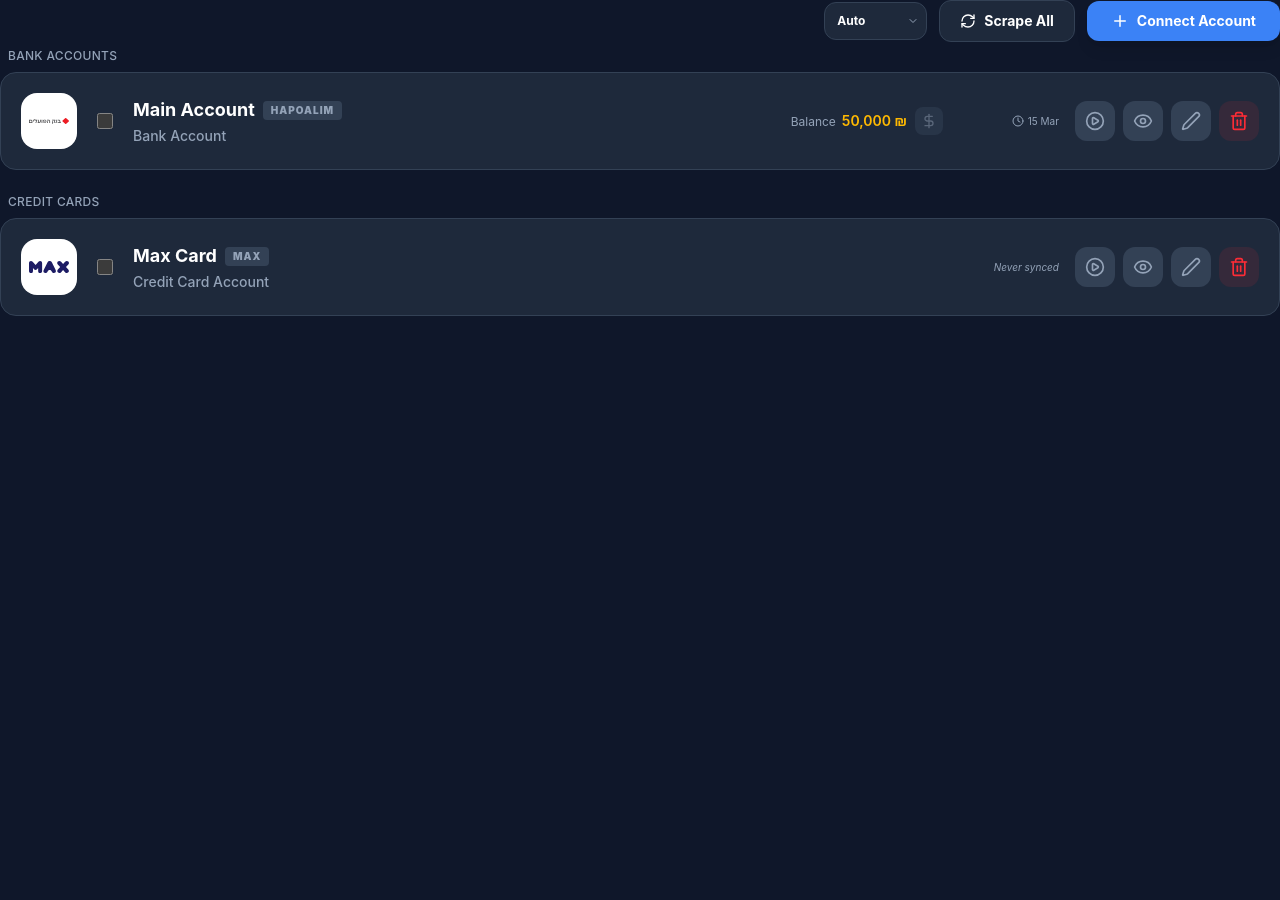
DataSources › disconnect account data choice › reports how many transactions were deleted
expect the heading "Main Account" is shown: met, box [133,96,255,124]
Step 1. Click the button named "disconnect account" in the row of "15 Mar" → (1239, 121), box [1219,101,1259,141]
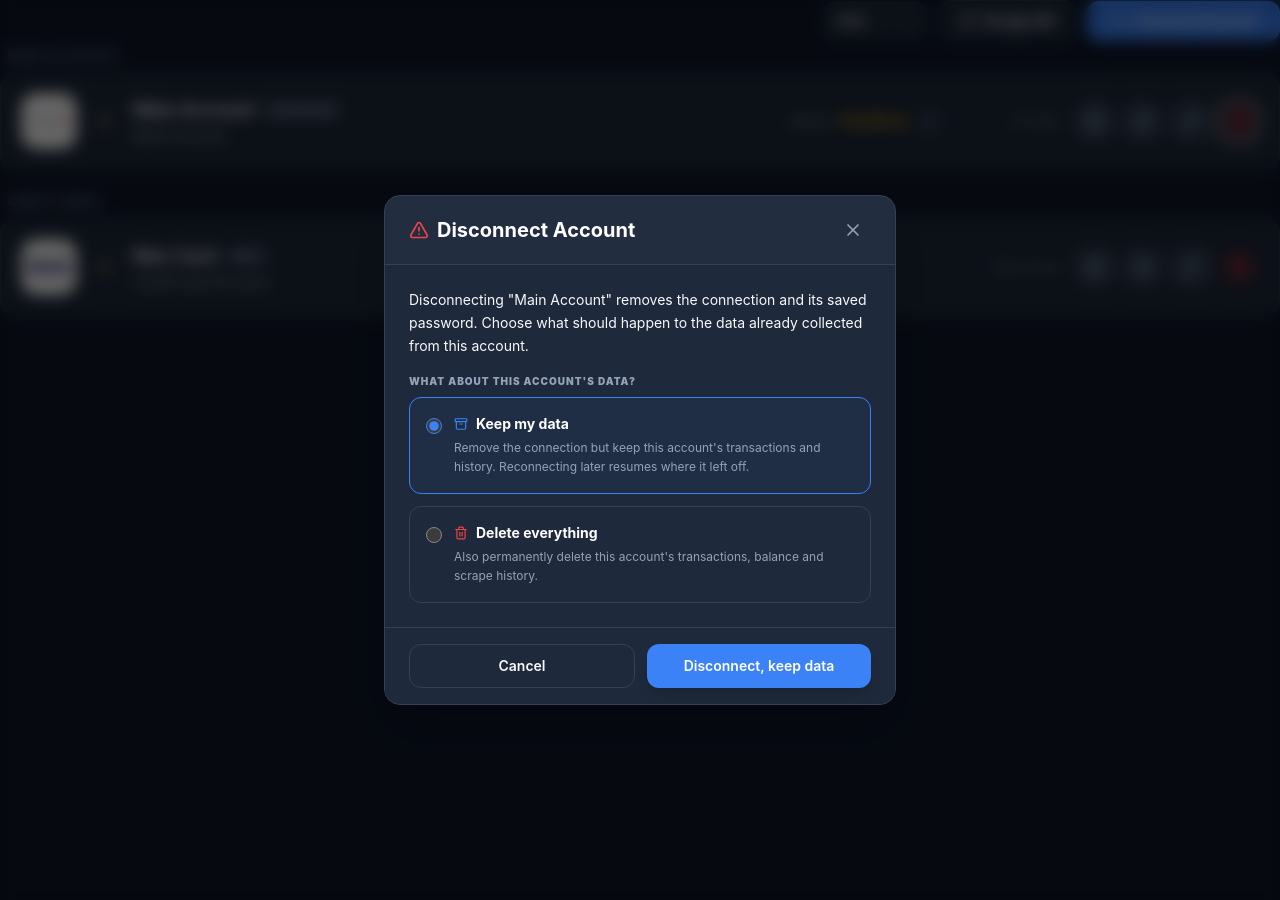
Step 2. Click the radio button labelled "Delete everything" → (434, 535), box [426,527,442,543]
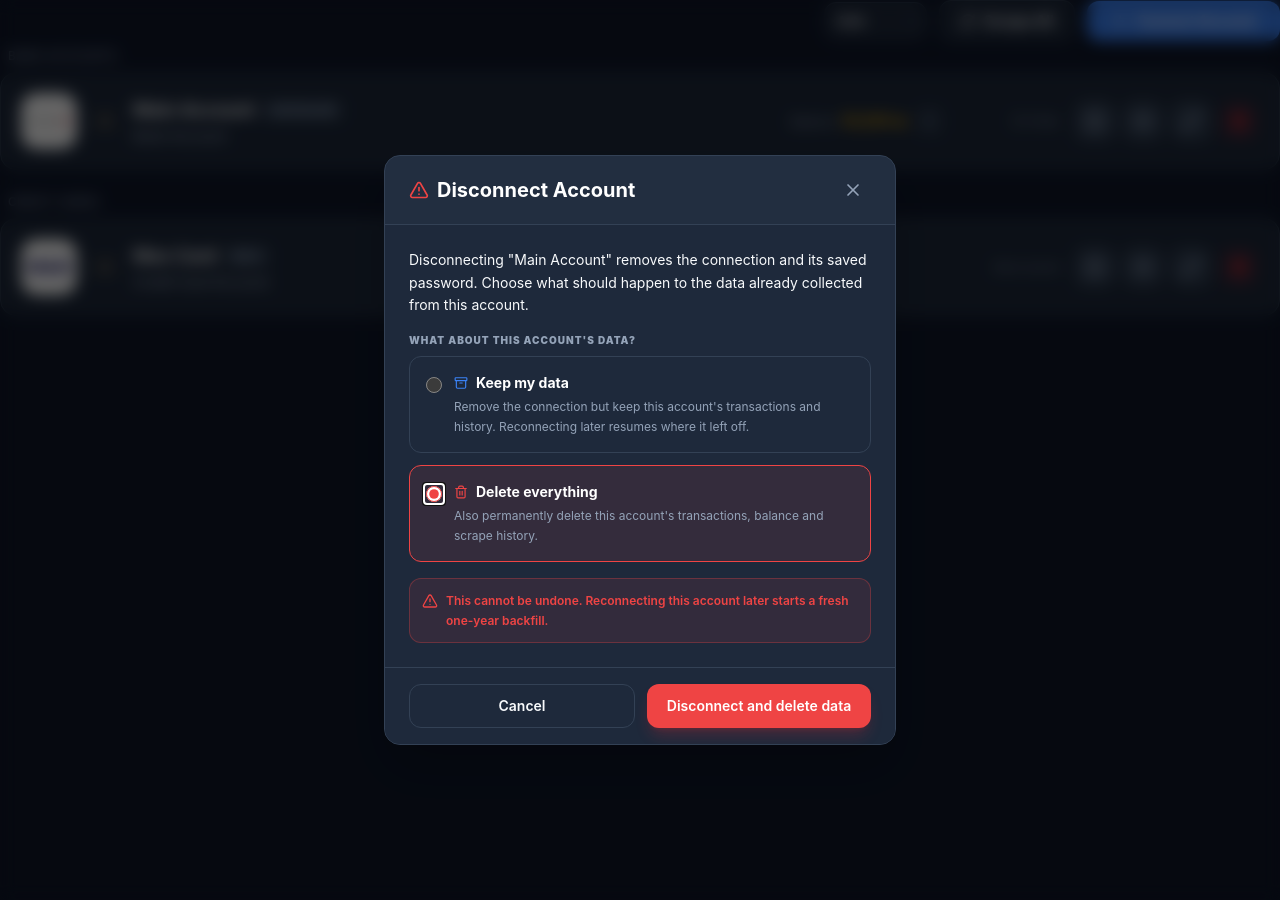
Step 3. Click the button "Disconnect and delete data" → (759, 706), box [647,684,871,728]
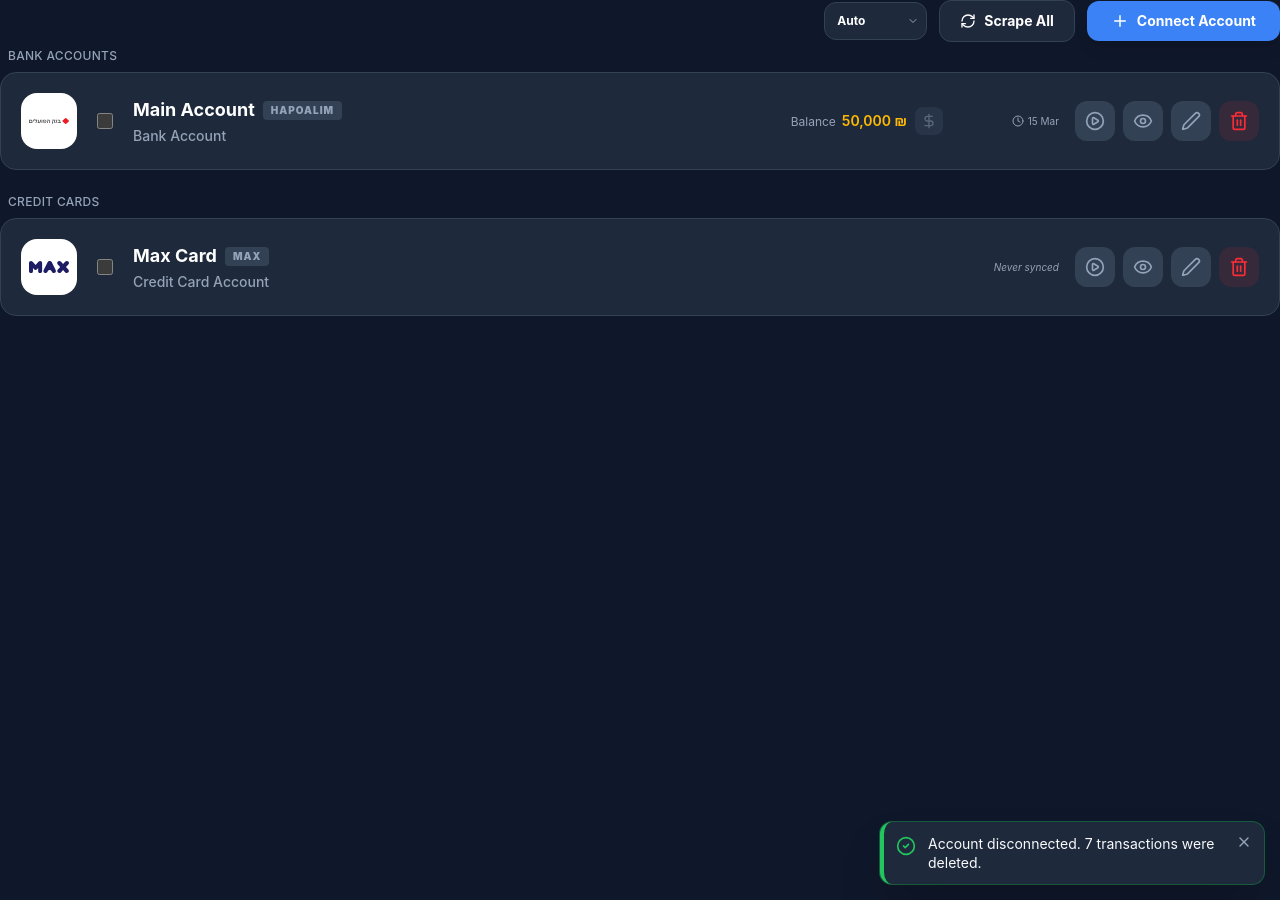
expect the text "Account disconnected. 7 transactions were deleted." is shown: met, box [928,834,1220,872]
